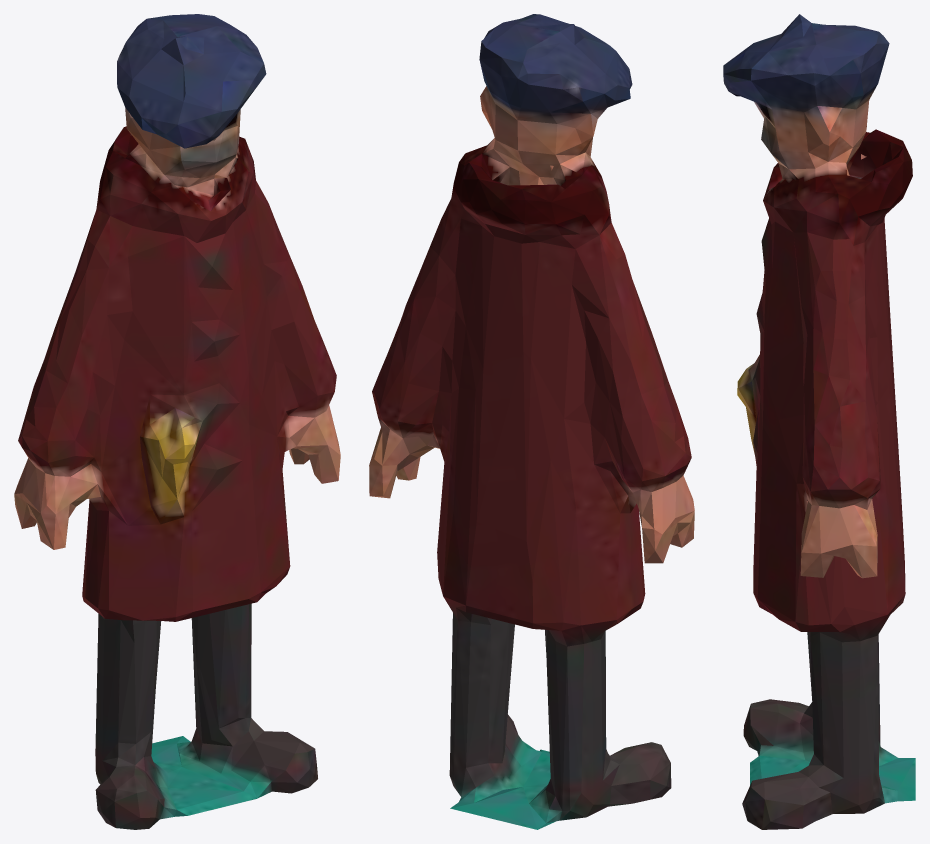
File: habitant-loin.glb
3 renders of one model, left to right at view 1: azimuth 30°, elevation 25°; view 2: azimuth 150°, elevation 25°; view 3: azimuth 270°, elevation 25°, orthographic.
Parts seen in each view (by area): view 1: habitant; view 2: habitant; view 3: habitant.
Part boxes in pixels (box(x1,y1,x2,y2)): habitant: box(14, 14, 340, 829); habitant: box(369, 14, 694, 829); habitant: box(723, 14, 915, 829).
Bounding box in the file's own units: 0.4233 × 1 × 0.2291.
Materials: 1 (1 with a texture image).
